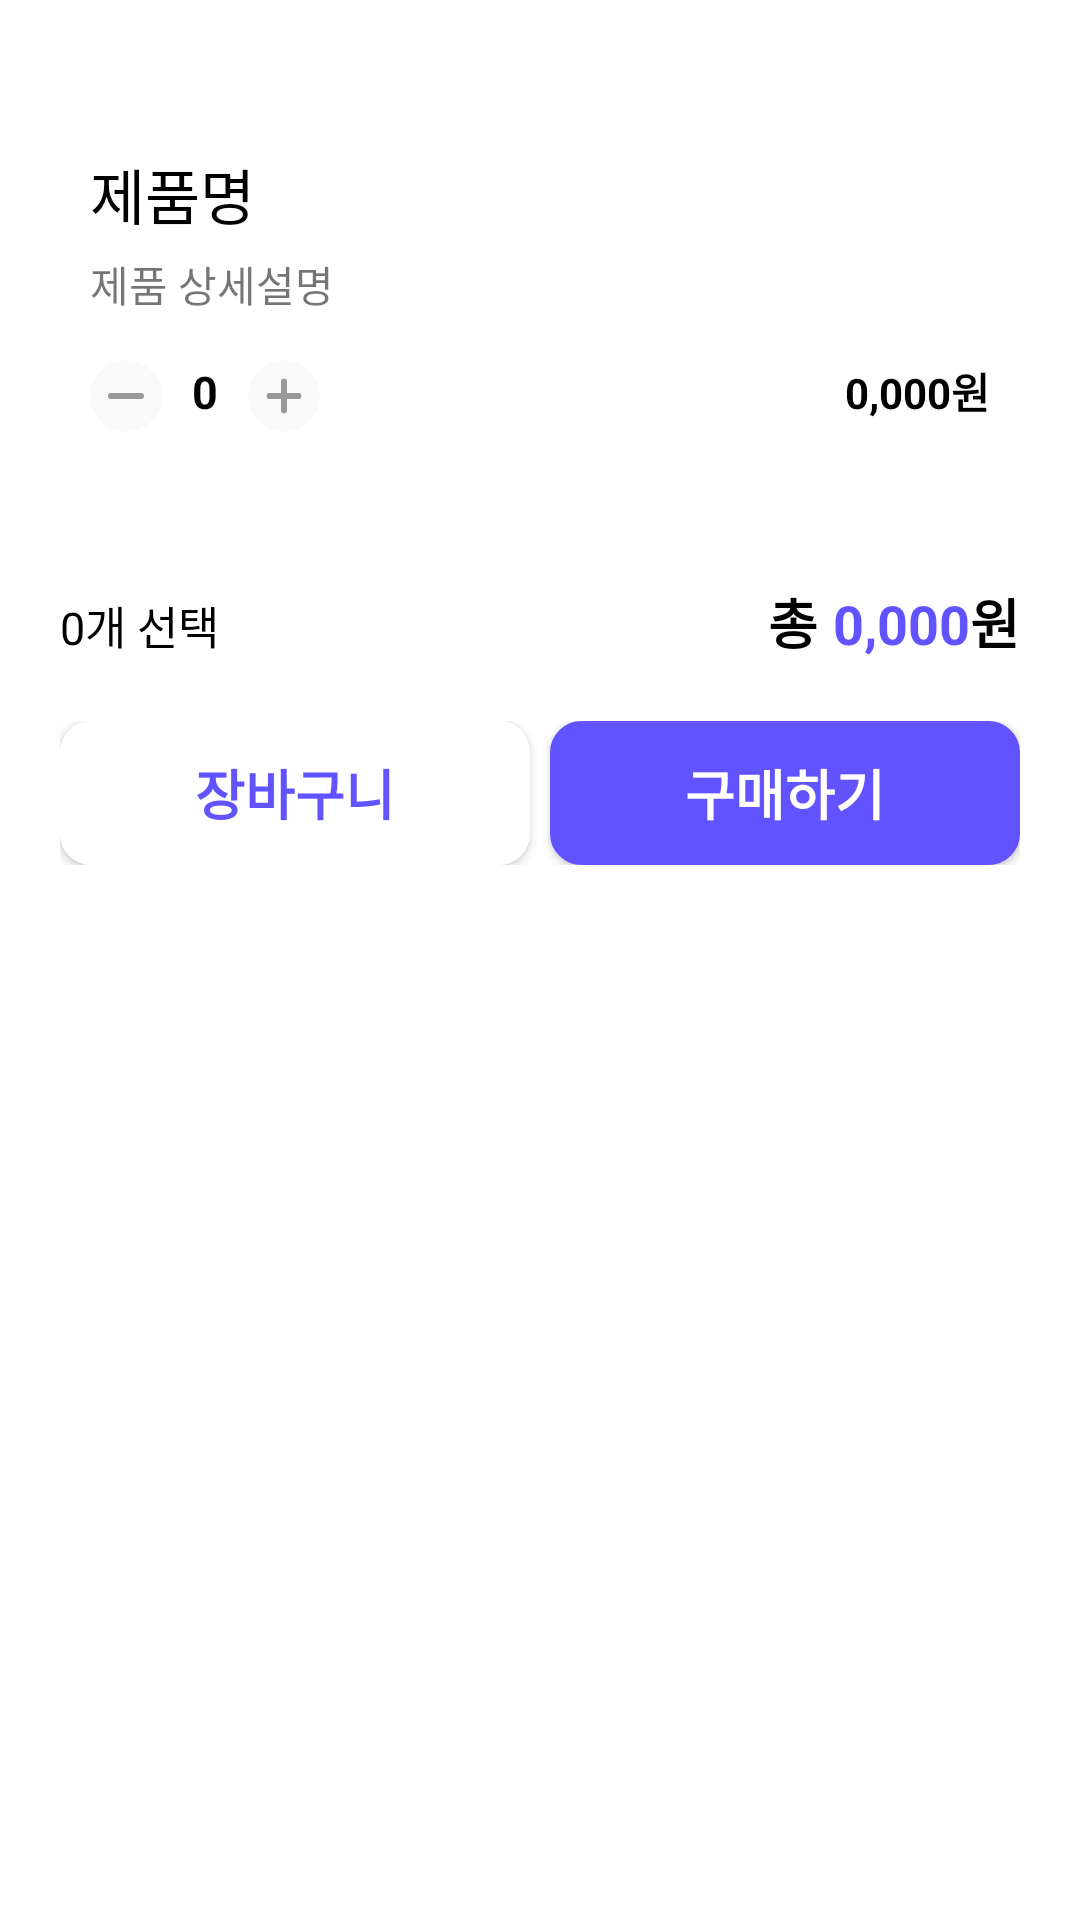

Named icons in this screenshot (1080px x 1920px) and their bounding boxes, bbox(x1, y1, x2, y2):
minus: bbox(108, 393, 144, 399)
plus: bbox(266, 378, 302, 414)
